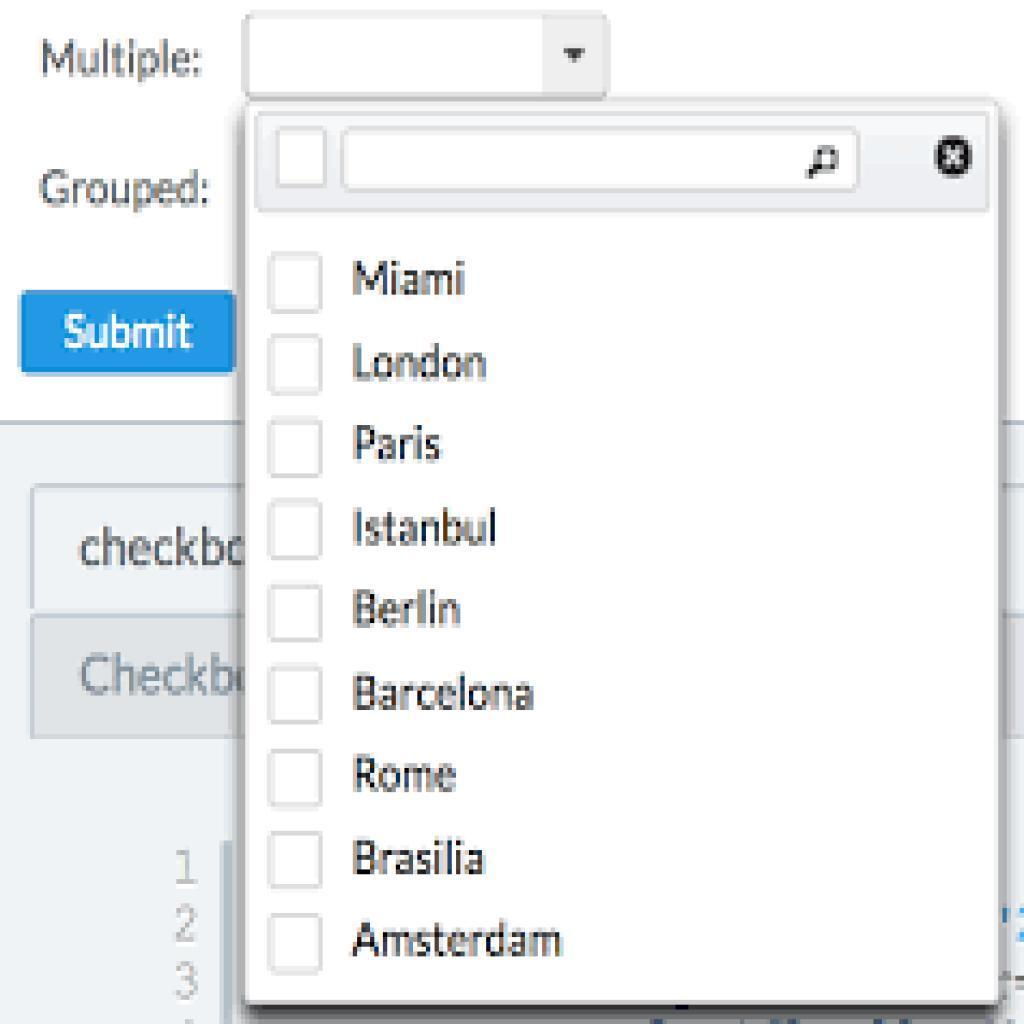button: (19, 289, 237, 376)
checkbox: (266, 251, 324, 314), (267, 335, 324, 398), (268, 914, 325, 976), (275, 125, 330, 189), (269, 499, 324, 562), (270, 749, 325, 811), (269, 420, 326, 479), (268, 832, 325, 891), (270, 586, 325, 644), (269, 667, 324, 724)
dropdown: (243, 9, 611, 102)
icon: (933, 132, 977, 181)
input: (343, 126, 859, 192)
label: (346, 915, 567, 965), (348, 664, 542, 718), (350, 502, 502, 555), (345, 251, 484, 305), (347, 335, 494, 386), (351, 833, 492, 880), (346, 582, 466, 636), (350, 748, 462, 802), (351, 419, 445, 472)
